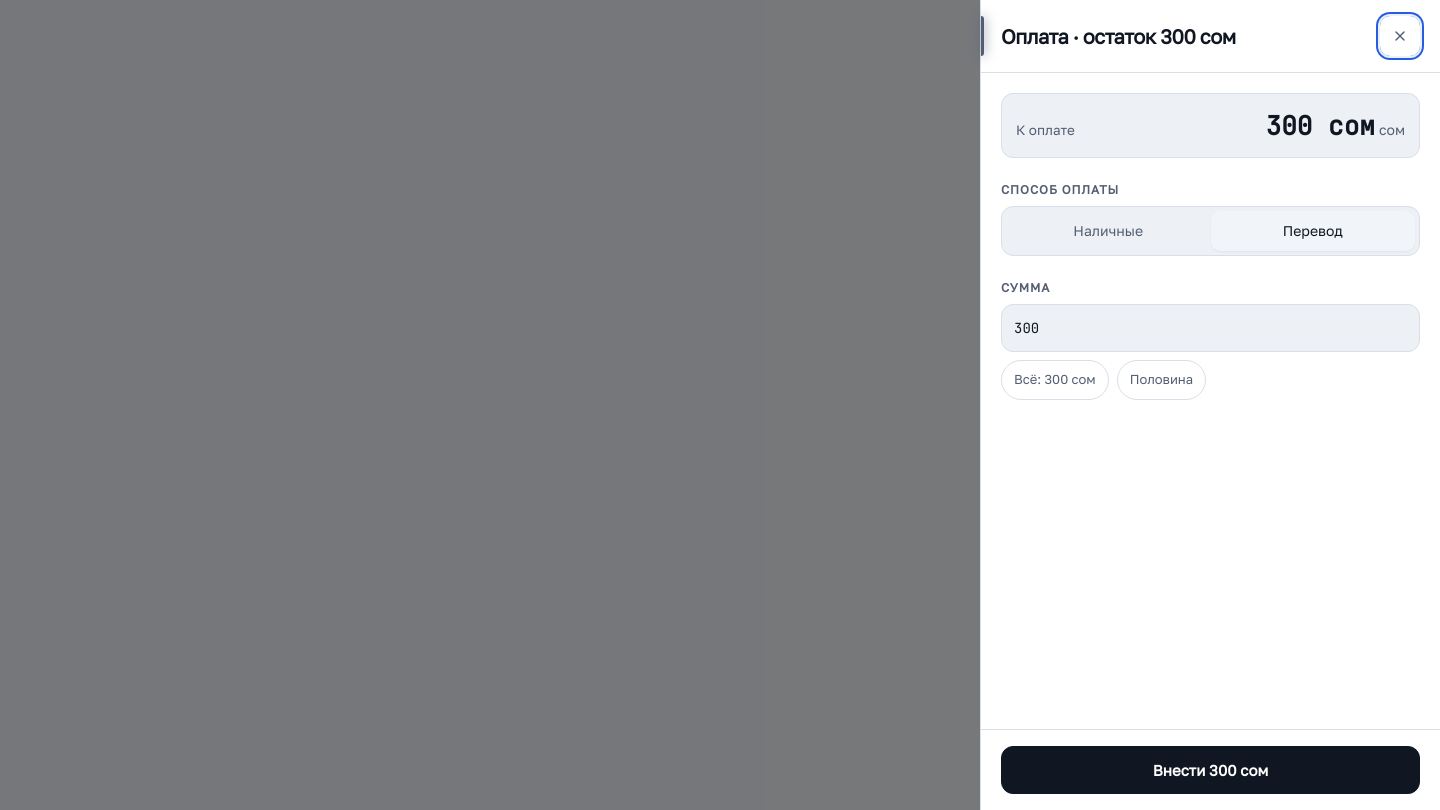
Test: PaymentDialog › closing with money still owed › asks before closing, and keeps the payment open when the operator goes back
Press Escape in the dialog "Оплата", box 980,0 -> 1439,809
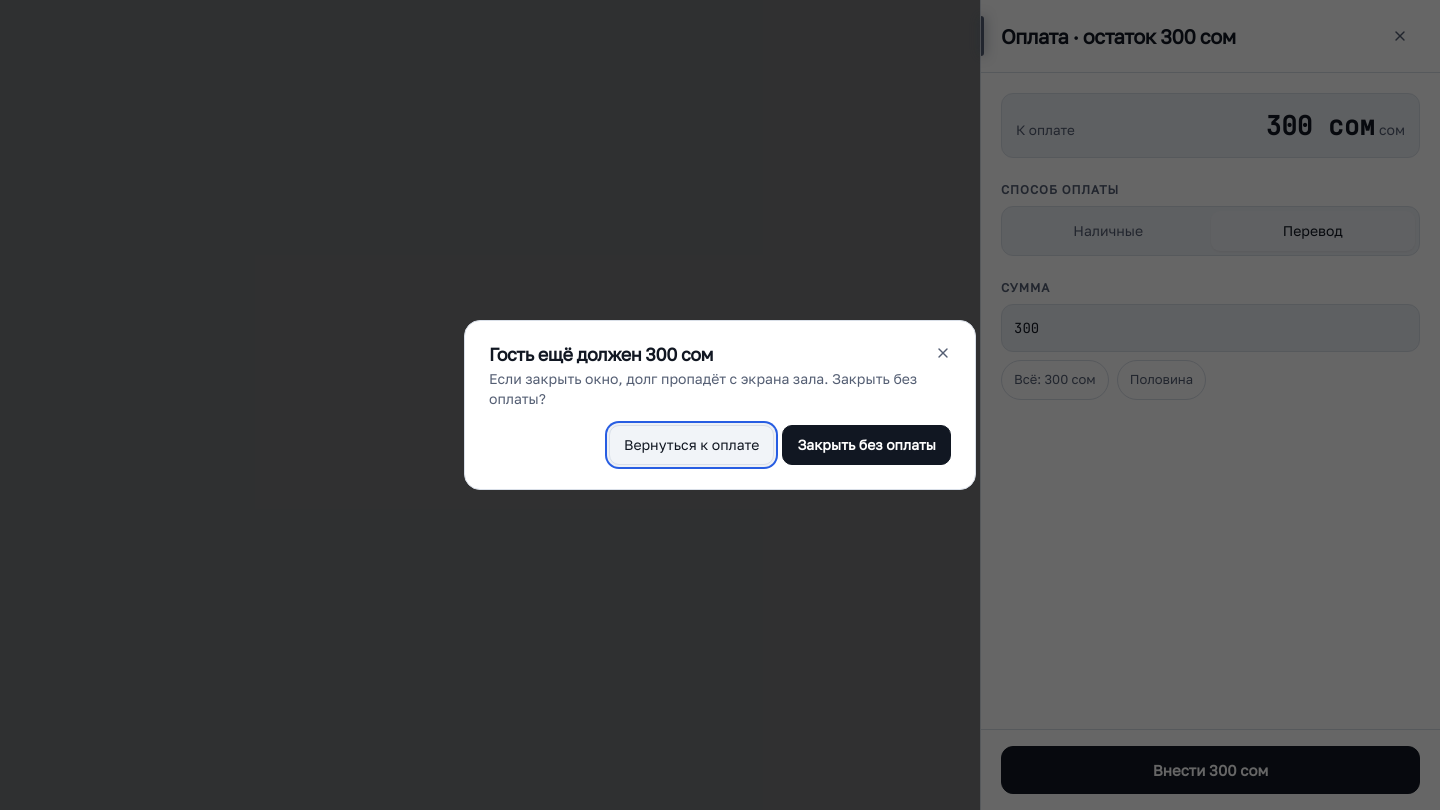
Now the heading "Гость ещё должен 300 сом" is shown, box 489,343 -> 713,365
Click the button "Вернуться к оплате". click: click(692, 445)
box: 609,425 -> 774,465
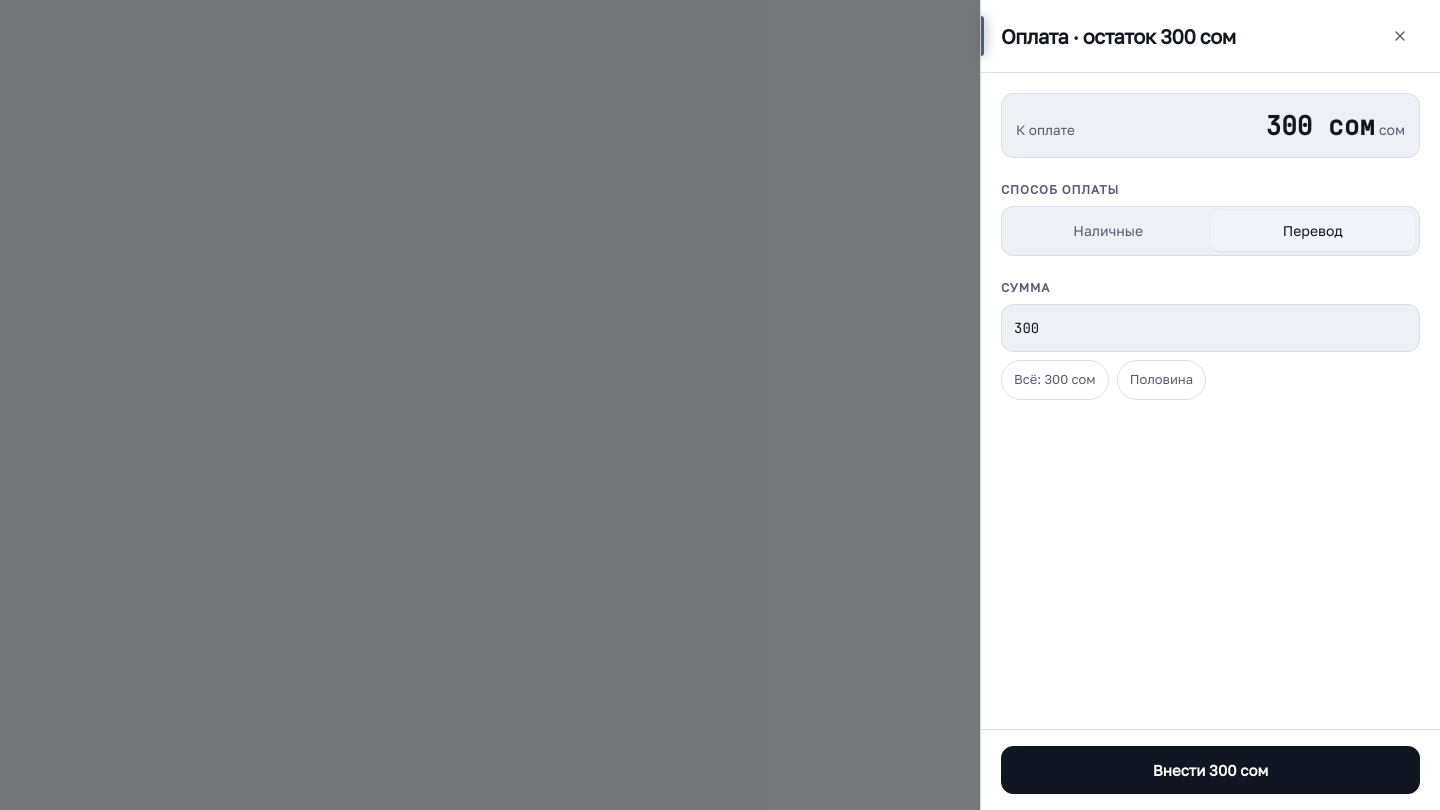
Expected: the heading "Оплата · остаток 300 сом" is shown, 1001,22 -> 1236,50
Now the heading "Гость ещё должен 300 сом" is gone
